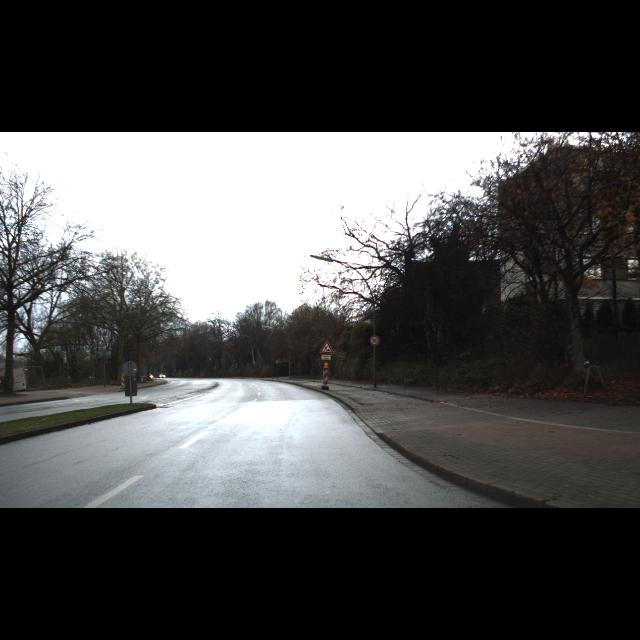danger: (320, 340, 334, 354)
prohibitory: (370, 336, 380, 346)
